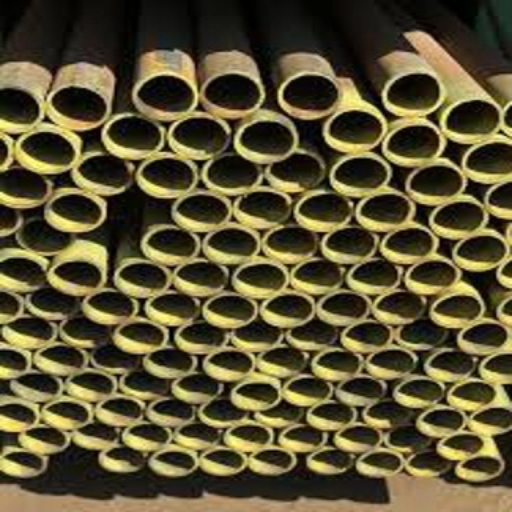Circle: (47, 85, 108, 127), (280, 72, 339, 115), (19, 129, 76, 171), (204, 72, 260, 114), (171, 117, 228, 158), (136, 75, 194, 115), (104, 116, 162, 156), (239, 119, 295, 160), (385, 72, 440, 112), (445, 99, 500, 139), (332, 155, 388, 194), (328, 109, 383, 148), (139, 156, 195, 194), (387, 123, 440, 163), (409, 163, 463, 202), (47, 193, 103, 230), (267, 151, 322, 188), (237, 188, 289, 227), (76, 153, 129, 191), (177, 192, 230, 230), (296, 193, 349, 231), (0, 84, 41, 131), (206, 155, 259, 191), (145, 226, 198, 262), (207, 227, 260, 263), (21, 216, 71, 254), (116, 263, 169, 298), (434, 200, 486, 235), (51, 259, 101, 295), (384, 225, 435, 260), (174, 261, 226, 295), (465, 141, 511, 179), (1, 167, 47, 205), (458, 233, 505, 270), (359, 195, 410, 229), (266, 225, 315, 260), (262, 293, 312, 327), (234, 263, 285, 296), (0, 255, 46, 291), (434, 293, 482, 327), (293, 258, 340, 292), (325, 228, 375, 259), (351, 260, 399, 292), (408, 261, 457, 292), (206, 295, 253, 326), (461, 323, 508, 354), (176, 323, 226, 352), (117, 320, 162, 352), (145, 348, 193, 378), (320, 292, 367, 322), (149, 293, 196, 323), (427, 349, 474, 379), (4, 316, 54, 344), (85, 291, 133, 320), (377, 292, 423, 322), (207, 348, 251, 379), (316, 349, 360, 380), (13, 373, 60, 402), (39, 345, 84, 375), (27, 289, 76, 316), (400, 317, 444, 347), (235, 319, 280, 348), (345, 322, 390, 351), (419, 409, 464, 438), (449, 380, 493, 409), (259, 347, 304, 375), (369, 348, 414, 376), (70, 371, 113, 400), (291, 319, 335, 347), (286, 376, 330, 404), (396, 378, 440, 406), (309, 401, 354, 428), (65, 316, 108, 344), (95, 347, 139, 374), (99, 396, 141, 424), (176, 373, 219, 400), (234, 380, 277, 407), (148, 399, 190, 426), (46, 401, 88, 428), (251, 448, 293, 475), (471, 407, 511, 435), (339, 377, 382, 403), (226, 424, 269, 450), (20, 427, 64, 452), (360, 449, 400, 476), (336, 427, 379, 452), (0, 403, 38, 431), (202, 399, 244, 424), (367, 401, 409, 426), (439, 434, 481, 459), (75, 423, 118, 447), (283, 426, 324, 451), (123, 372, 165, 396), (1, 451, 43, 475), (154, 449, 194, 474), (408, 451, 448, 476), (258, 401, 300, 424), (177, 424, 219, 447), (389, 425, 426, 451), (127, 424, 167, 448), (308, 449, 351, 471), (459, 456, 500, 479), (103, 448, 143, 470), (202, 452, 243, 472), (0, 347, 27, 375), (0, 291, 21, 321), (492, 182, 511, 214), (1, 201, 20, 231), (483, 353, 500, 383), (500, 258, 511, 286), (501, 297, 511, 320), (505, 103, 511, 133)
